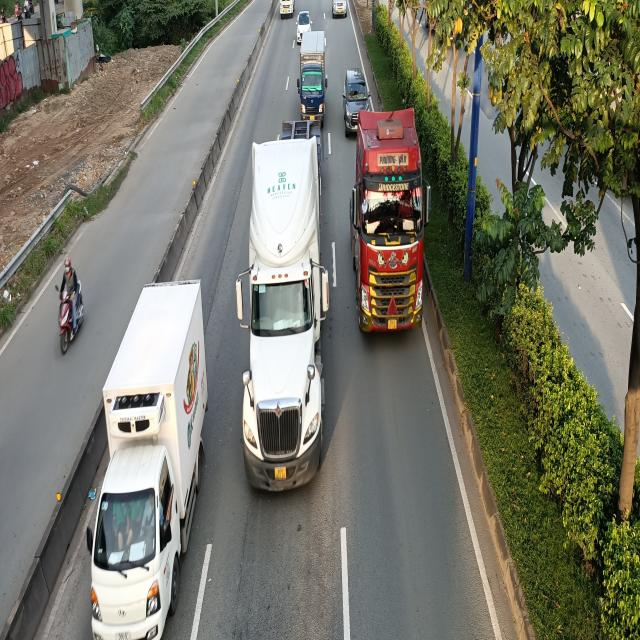container: (236, 116, 332, 492), (355, 108, 433, 336)
truck: (89, 279, 213, 638), (296, 31, 327, 126)
